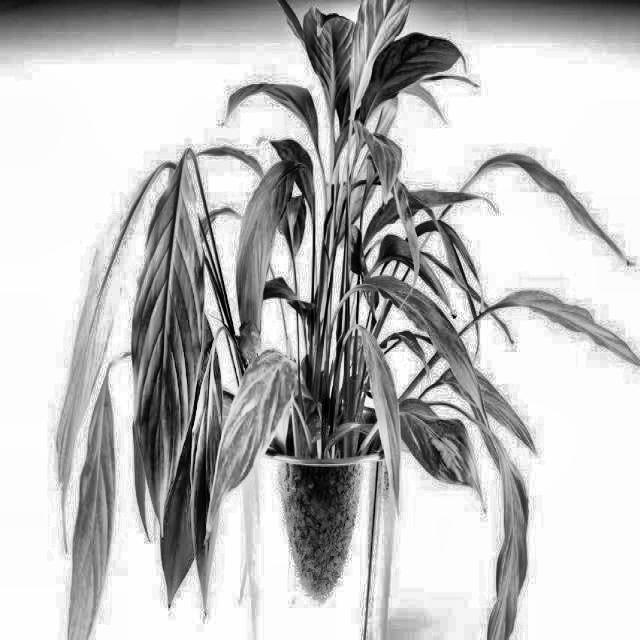plants: (39, 113, 632, 639)
